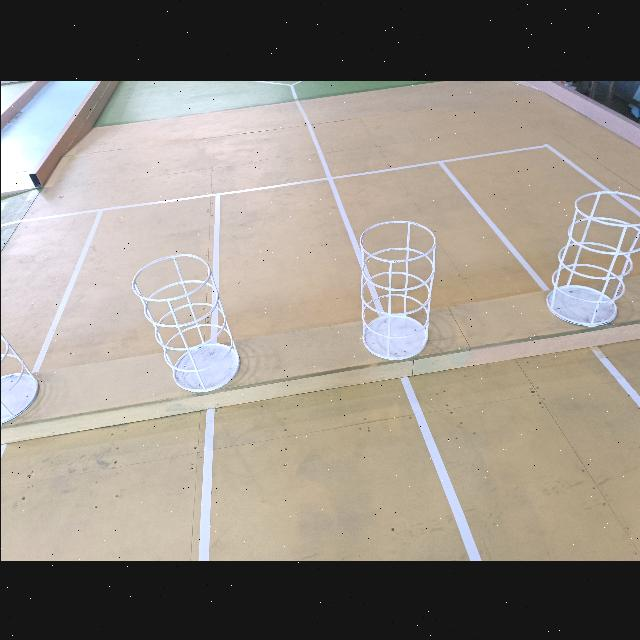S: (129, 252, 239, 393), (544, 190, 640, 328), (359, 219, 436, 361), (0, 331, 38, 426)
